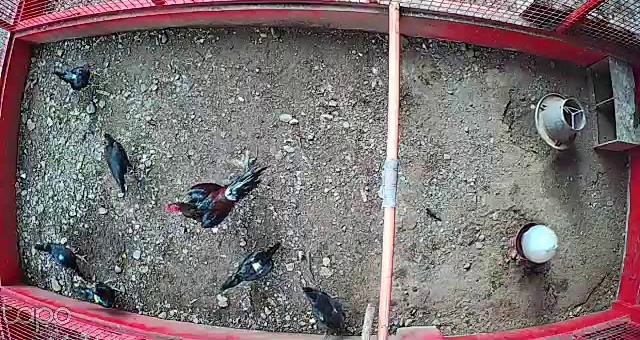Chicken: (218, 237, 285, 294), (300, 283, 353, 336), (98, 127, 140, 191), (32, 235, 91, 277), (74, 277, 125, 307), (52, 61, 93, 95)
Rooster: (164, 162, 271, 233)
Saddle_Color_Blue: (59, 253, 63, 260)
Saddle_Color_Yellow: (247, 255, 265, 274)
Saddle_Color_YellowGreen: (92, 294, 102, 302)
